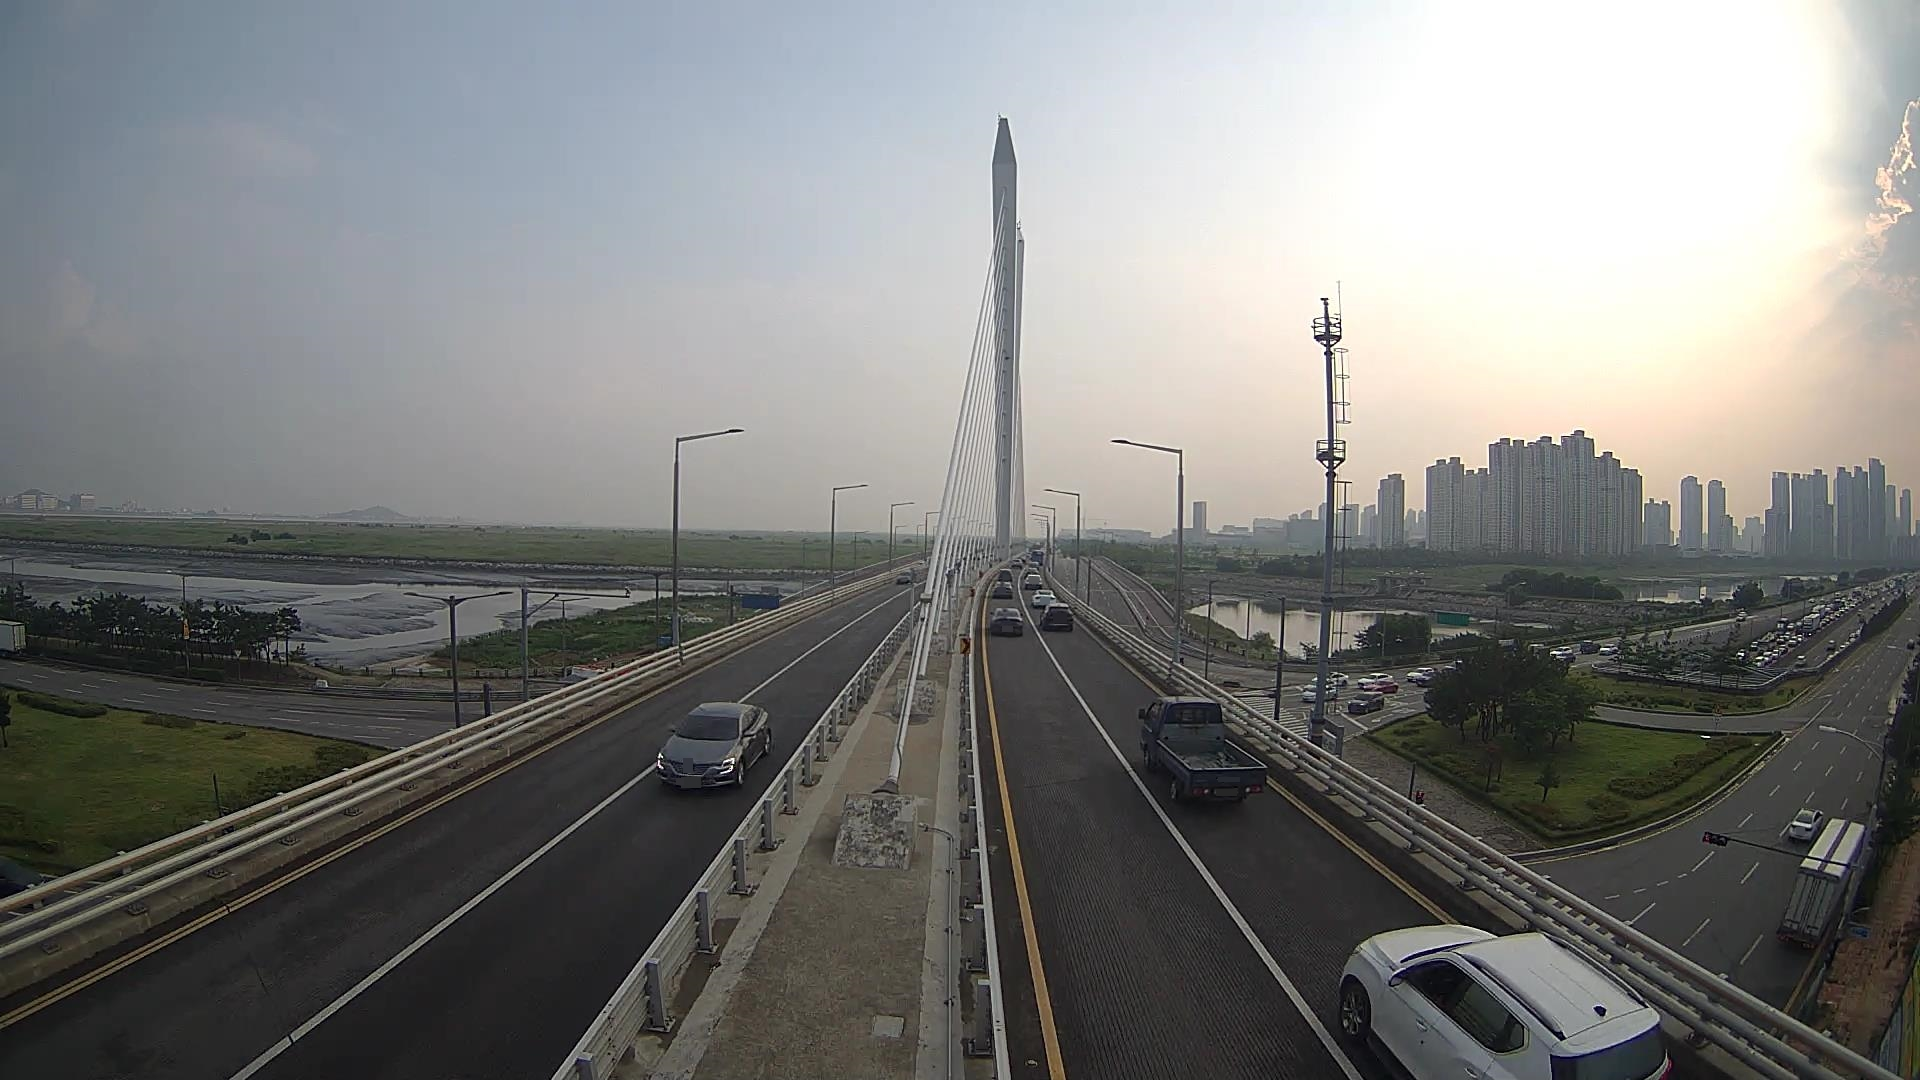정상차량: (1138, 695, 1269, 803)
